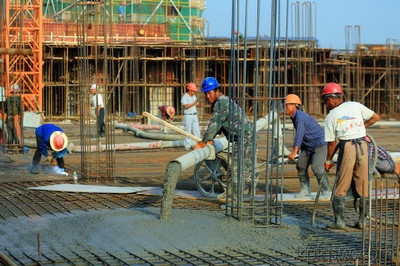blue: (200, 75, 220, 103)
red: (320, 82, 343, 107), (50, 131, 65, 150), (8, 83, 19, 96), (187, 82, 197, 95)
white: (88, 83, 98, 94)
yellow: (284, 94, 301, 115)
